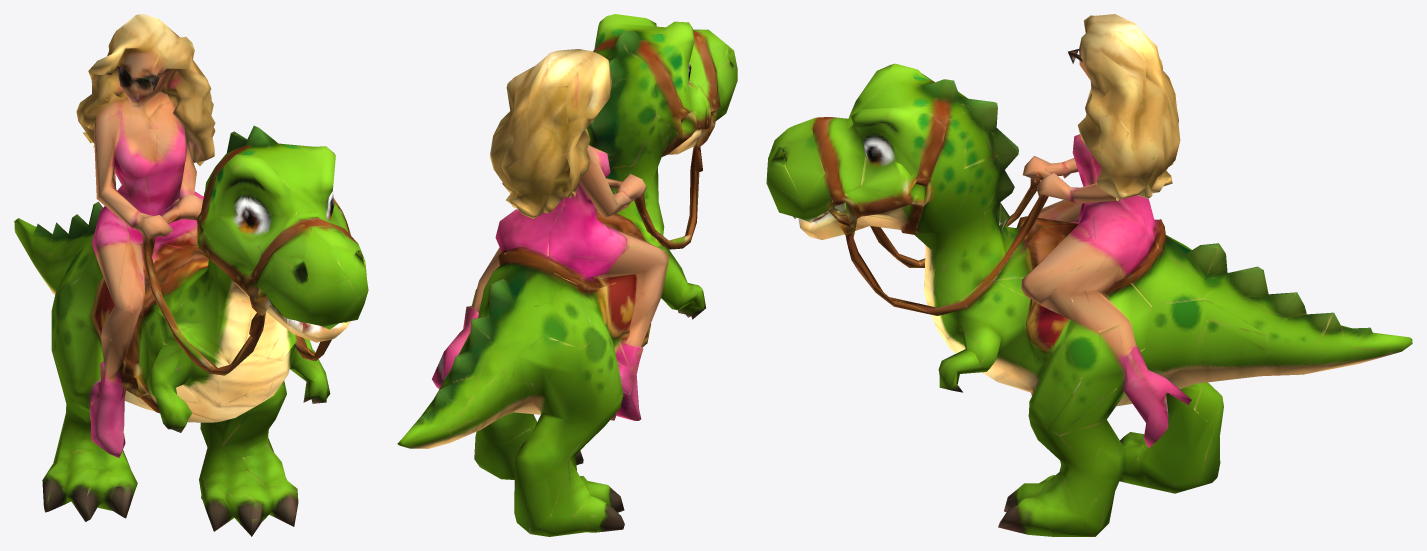
File: hero-cherry.glb
3 views of the same model, side by side, from view 1: azimuth 30°, elevation 25°; view 2: azimuth 150°, elevation 25°; view 3: azimuth 270°, elevation 25° (orthographic). The views are drawn at different scales.
Parts seen in each view (by area): view 1: Mesh_0.002; view 2: Mesh_0.002; view 3: Mesh_0.002.
Part boxes in pixels (<box>): Mesh_0.002: <box>14,14,368,536</box>; Mesh_0.002: <box>397,14,737,536</box>; Mesh_0.002: <box>766,14,1412,536</box>.
Size of the model in its own units: 0.9367 by 2.15 by 2.7.
1 material, 1 textured.
